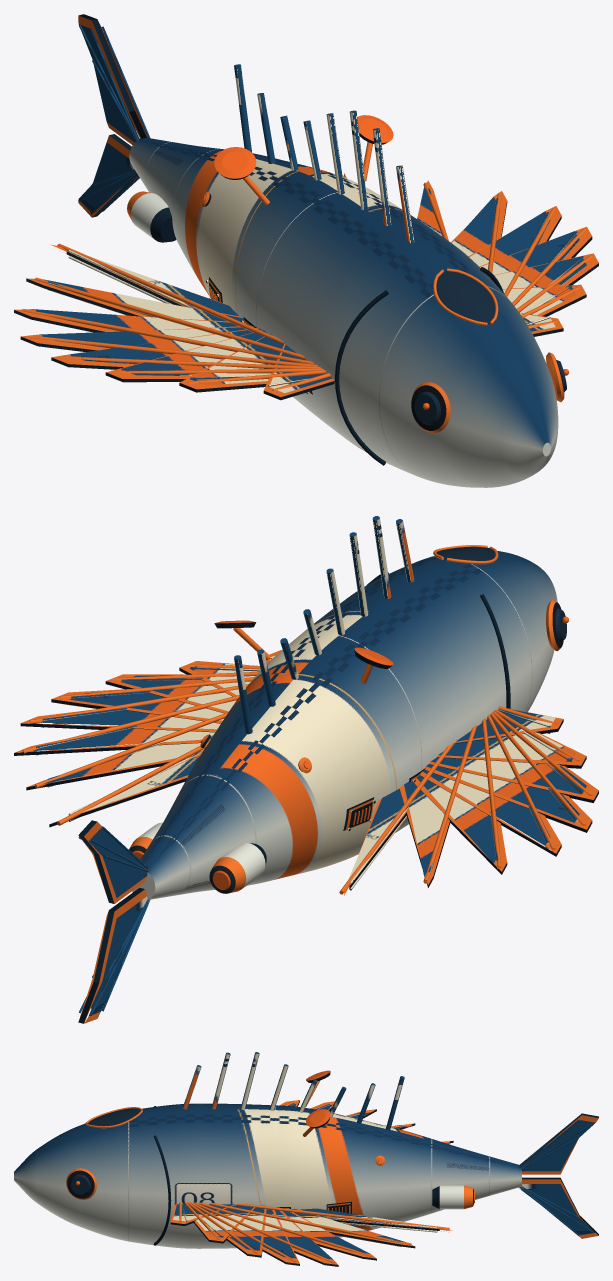
3 views of the same model, one above another, from view 1: azimuth 30°, elevation 25°; view 2: azimuth 150°, elevation 25°; view 3: azimuth 270°, elevation 25° (orthographic). The views are drawn at different scales.
Visible parts, largest first — view 1: lionfish_hull; view 2: lionfish_hull; view 3: lionfish_hull.
Part boxes in pixels (x1,y1,x2,y2): lionfish_hull: (14,14,598,487); lionfish_hull: (14,516,598,1023); lionfish_hull: (14,1052,598,1266).
Size of the model in its own units: 45.14 by 24.54 by 68.
Materials: 1 (1 with a texture image).
